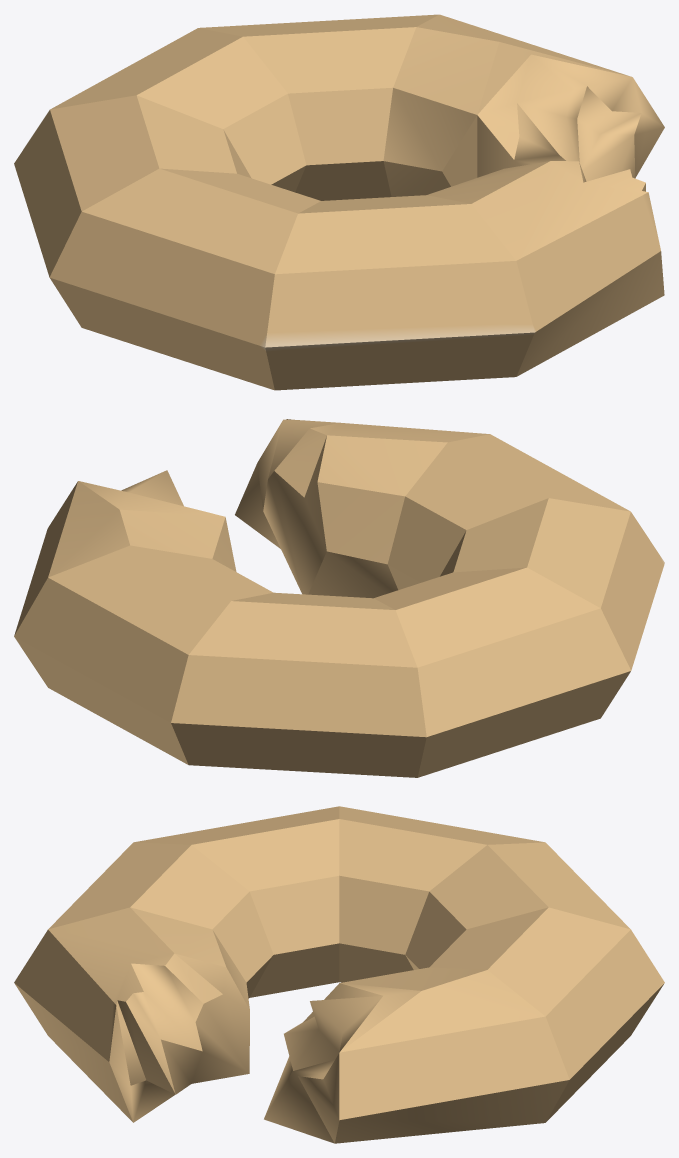
File: chomped_donut.fbx
The picture shows the model from 3 angles, top to bottom: view 1: azimuth 30°, elevation 25°; view 2: azimuth 150°, elevation 25°; view 3: azimuth 270°, elevation 25°; orthographic projection. The views are drawn at different scales.
Parts seen in each view (by area): view 1: Chomped_Donut; view 2: Chomped_Donut; view 3: Chomped_Donut.
Part boxes in pixels (box(x1,y1,x2,y2)): Chomped_Donut: box(14, 14, 664, 390); Chomped_Donut: box(14, 419, 664, 777); Chomped_Donut: box(14, 806, 664, 1143).
Bounding box in the file's own units: 2.8 × 0.7145 × 2.8.
